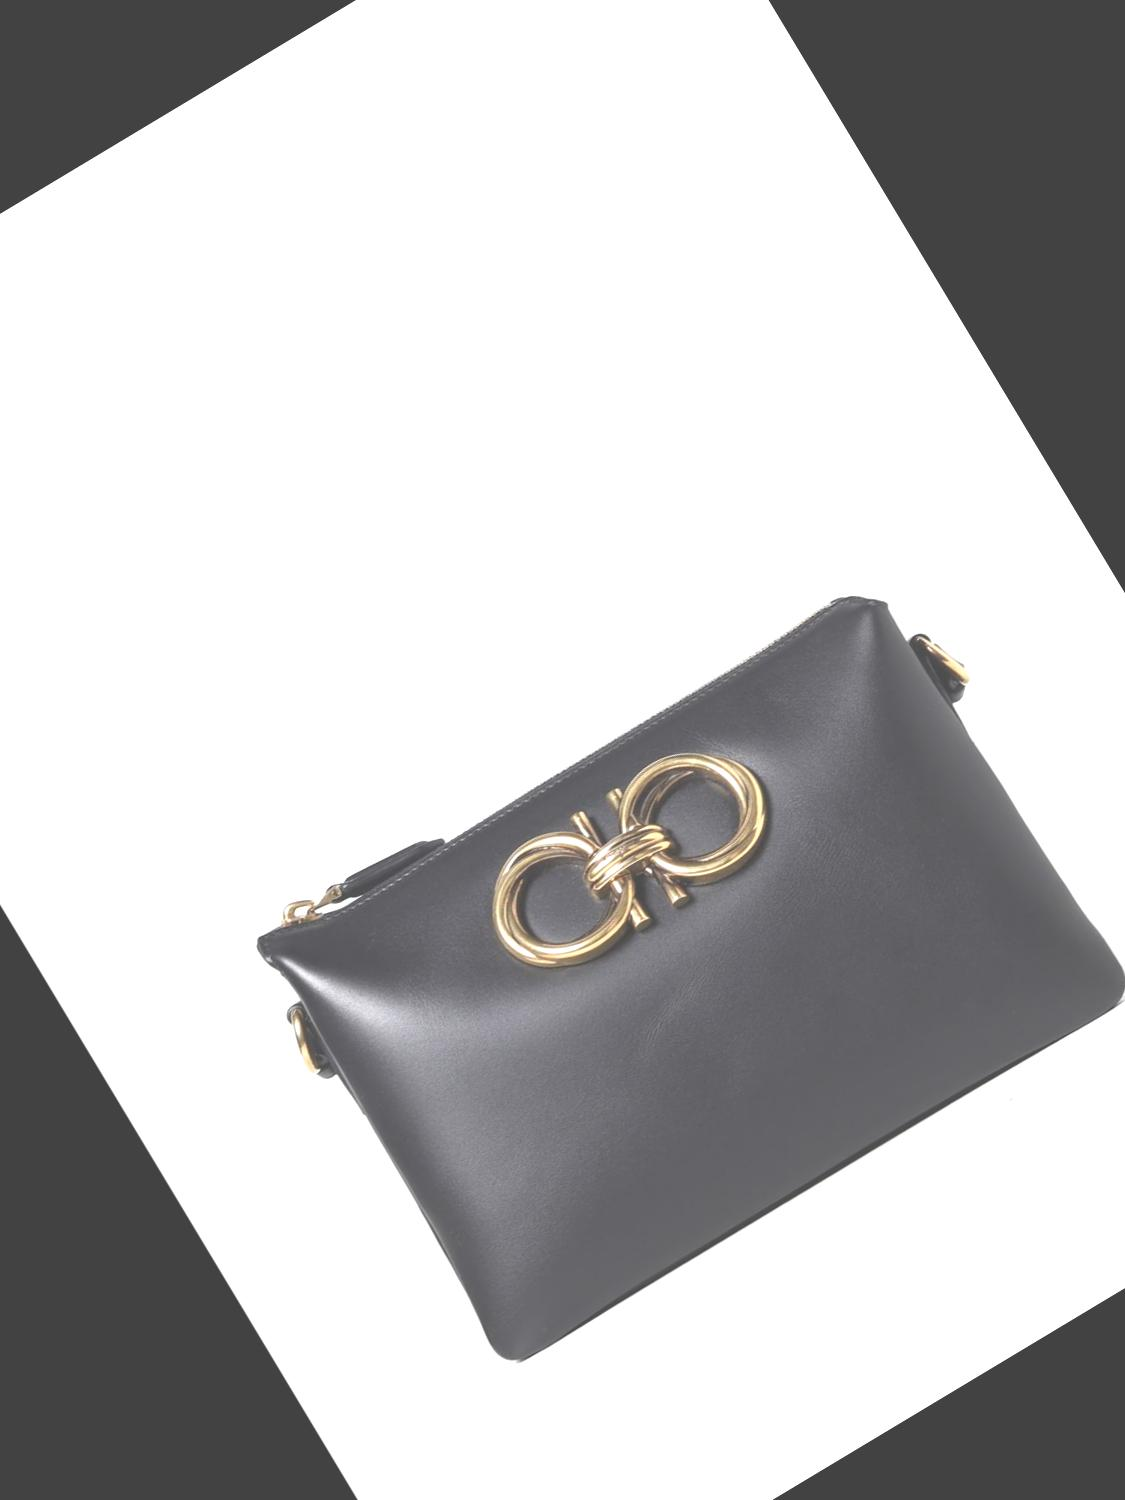FERRAGAMO: (428, 683, 830, 1023)
